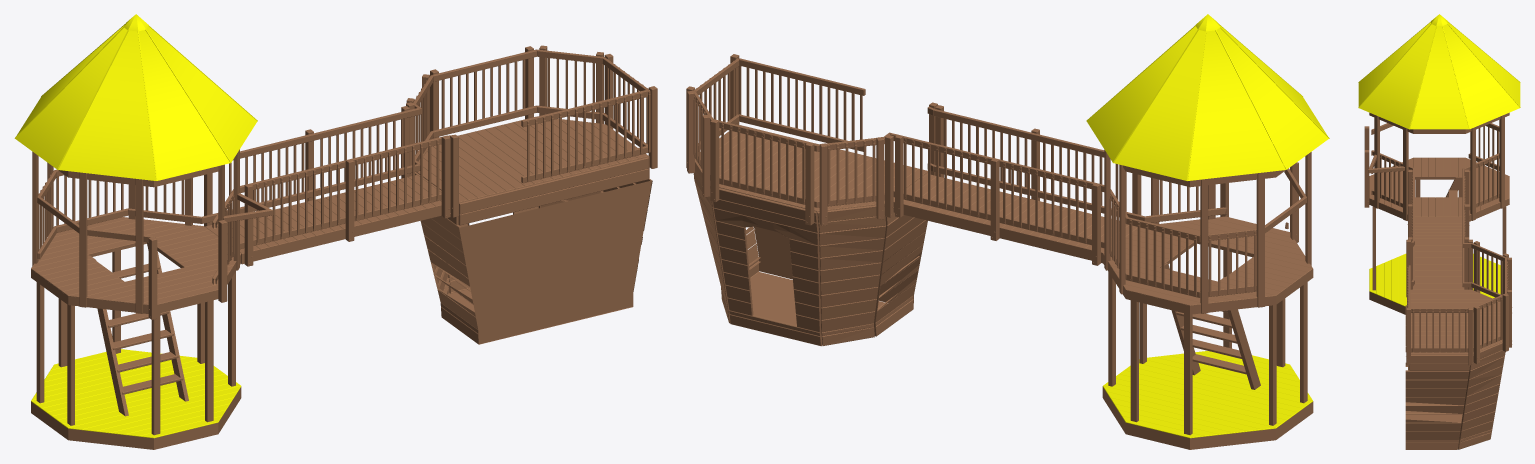
3 views of the same model, side by side, from view 1: azimuth 30°, elevation 25°; view 2: azimuth 150°, elevation 25°; view 3: azimuth 270°, elevation 25° (orthographic). The views are drawn at different scales.
Parts seen in each view (by area): view 1: Ladder, Box105, Line007_2, Box009, Box104, Box007, Box015, Box021, Box005, Line007, Shape007, Line009_239 (+13 smaller); view 2: Ladder, Box105, Box009, Line007_2, Box001_2, Box007, Box104, Box015, Box005, Line009_239, Box021, Line007 (+15 smaller); view 3: Ladder, Box105, Box009, Box001, Line007_2, Shape007, Box011, Box005, Box058, Box057, Line007, Box030 (+12 smaller).
Part boxes in pixels (bbox=[...]): Ladder: bbox=[15, 14, 652, 438]; Box105: bbox=[38, 58, 650, 264]; Line007_2: bbox=[37, 49, 650, 242]; Box009: bbox=[32, 149, 239, 313]; Box104: bbox=[256, 140, 439, 244]; Box007: bbox=[31, 387, 241, 449]; Box015: bbox=[241, 206, 441, 264]; Box021: bbox=[108, 263, 183, 394]; Box005: bbox=[31, 254, 241, 313]; Line007: bbox=[212, 135, 452, 228]; Shape007: bbox=[14, 24, 257, 181]; Line009_239: bbox=[212, 193, 441, 284]; Ladder: bbox=[693, 14, 1328, 438]; Box105: bbox=[693, 61, 1256, 296]; Box009: bbox=[1104, 149, 1311, 313]; Line007_2: bbox=[693, 58, 1306, 241]; Box001_2: bbox=[795, 270, 917, 332]; Box007: bbox=[1102, 387, 1313, 449]; Box104: bbox=[943, 118, 1126, 211]; Box015: bbox=[893, 202, 1102, 263]; Box005: bbox=[1102, 254, 1313, 314]; Line009_239: bbox=[927, 163, 1227, 222]; Box021: bbox=[1176, 310, 1246, 374]; Line007: bbox=[927, 106, 1104, 157]; Ladder: bbox=[1358, 14, 1520, 449]; Box105: bbox=[1380, 126, 1508, 352]; Box009: bbox=[1374, 114, 1504, 220]; Box001: bbox=[1405, 410, 1495, 439]; Line007_2: bbox=[1371, 123, 1507, 312]; Shape007: bbox=[1358, 21, 1520, 129]; Box011: bbox=[1369, 112, 1509, 133]; Box005: bbox=[1369, 199, 1509, 221]; Box058: bbox=[1502, 293, 1508, 351]; Box057: bbox=[1473, 306, 1479, 363]; Line007: bbox=[1371, 150, 1414, 246]; Box030: bbox=[1364, 150, 1369, 207].
Size of the model in its own units: 327 by 109 by 204.
